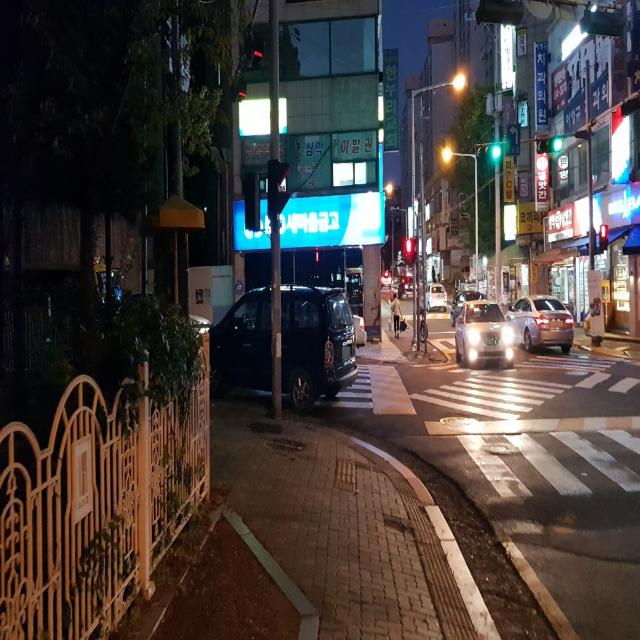빨간불: (404, 240, 414, 262)
횡단보도: (440, 422, 640, 492), (537, 357, 640, 392), (430, 381, 538, 413), (314, 364, 374, 409)
